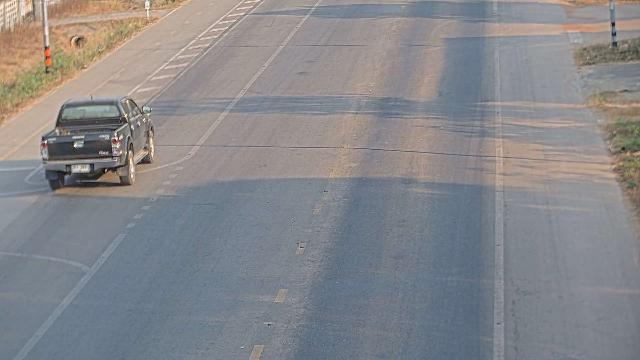pickup-truck: (39, 94, 155, 190)
